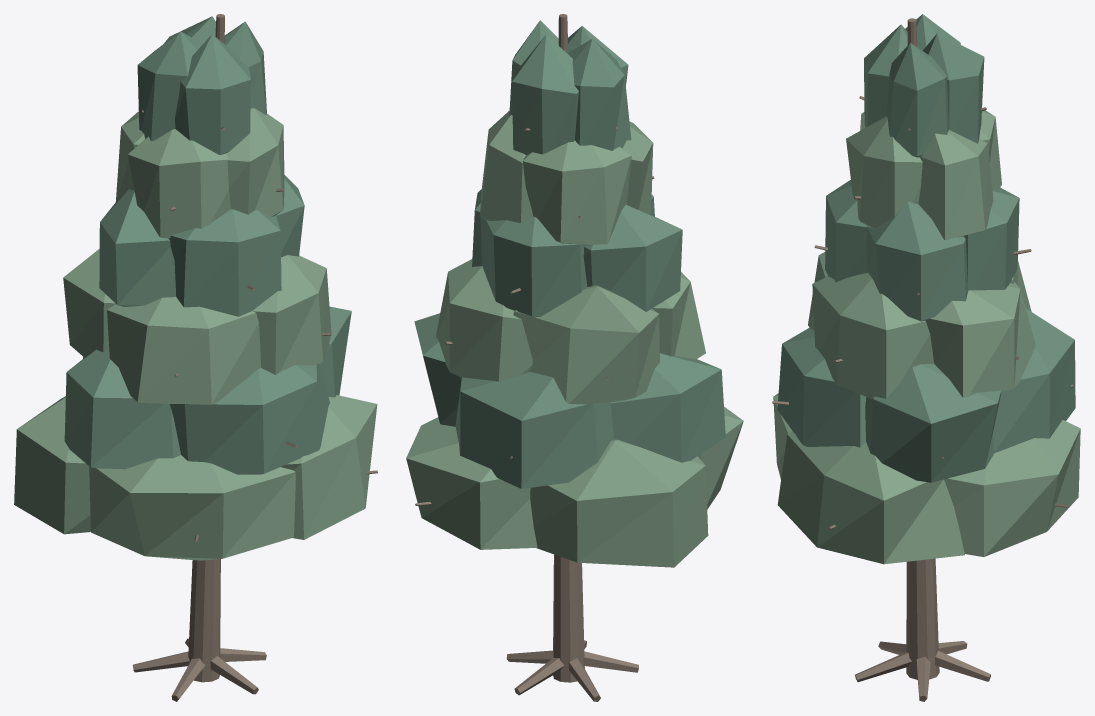
3 renders of one model, left to right at view 1: azimuth 30°, elevation 25°; view 2: azimuth 150°, elevation 25°; view 3: azimuth 270°, elevation 25°, orthographic.
Bounding box in the file's own units: 7.94 × 16.61 × 7.05.
